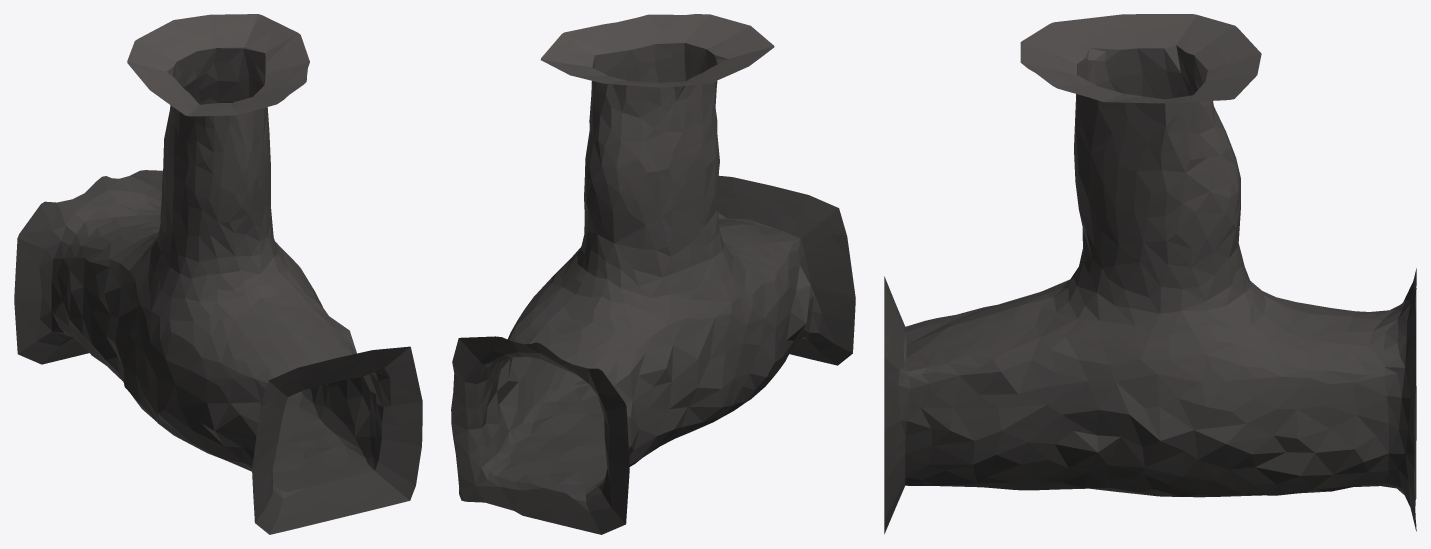
File: ZLP_Cave_A_11.FBX
The picture shows the model from 3 angles, left to right: view 1: azimuth 30°, elevation 25°; view 2: azimuth 150°, elevation 25°; view 3: azimuth 270°, elevation 25°; orthographic projection. The views are drawn at different scales.
Visible parts, largest first — view 1: ZLP_Cave_A_11; view 2: ZLP_Cave_A_11; view 3: ZLP_Cave_A_11.
Part boxes in pixels (left/top/right/bottom): ZLP_Cave_A_11: left=14, top=14, right=422, bottom=534; ZLP_Cave_A_11: left=451, top=14, right=855, bottom=534; ZLP_Cave_A_11: left=884, top=14, right=1416, bottom=534.
Size of the model in its own units: 1761 by 3289 by 3609.
